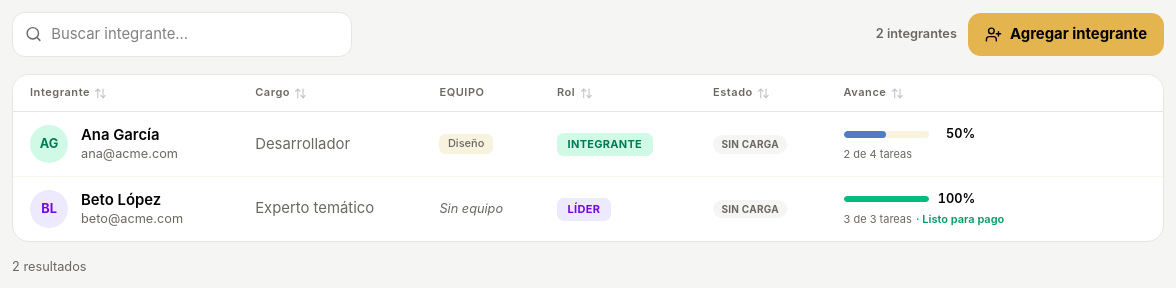
Test: MembersPanel › filters by cargo using its readable label
Expected: the text "Ana García" is shown, [81,126,160,144]
Step 1. Type "desarrollador" into the search field labelled "Buscar integrante" → (182, 34), box [12,12,352,56]
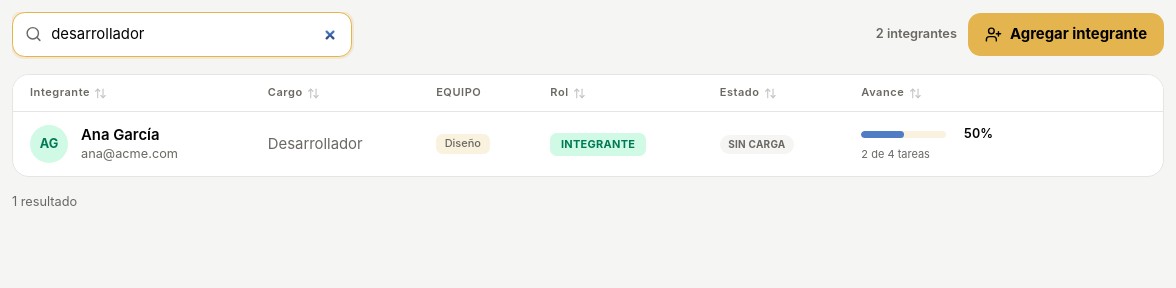
Expected: the text "Ana García" is shown, [81,126,160,144]
Expected: the text "Beto López" is gone
